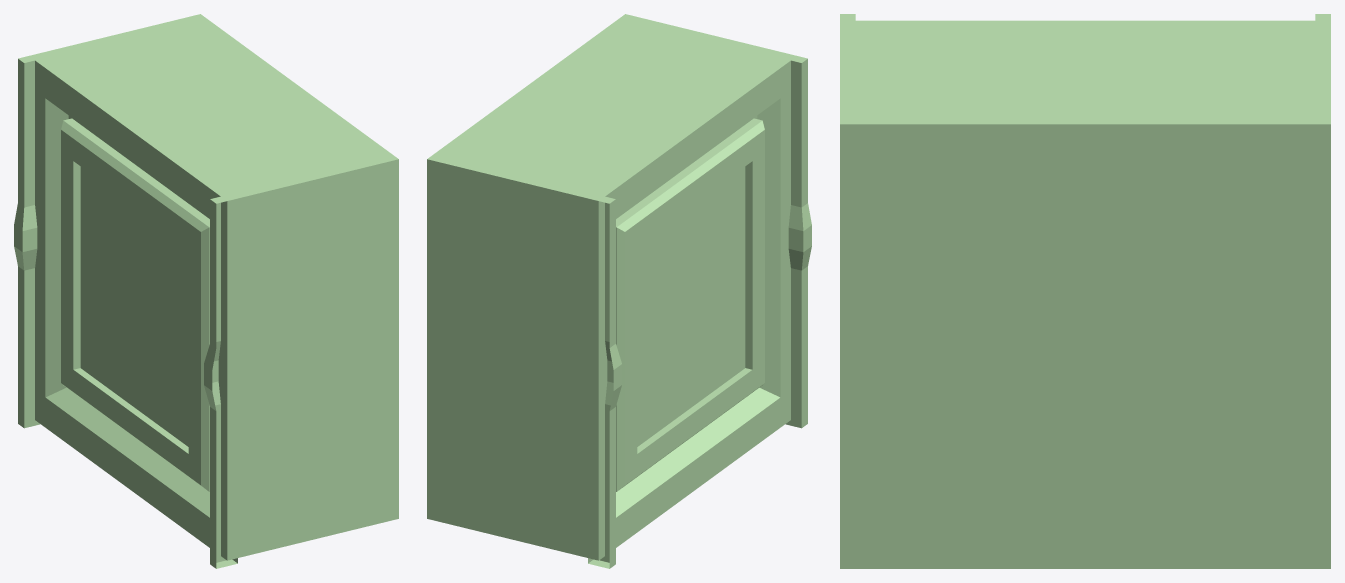
Rendered from block_wall_normal0.fbx.
3 views of the same model, side by side, from view 1: azimuth 30°, elevation 25°; view 2: azimuth 150°, elevation 25°; view 3: azimuth 270°, elevation 25° (orthographic). The views are drawn at different scales.
Visible parts, largest first — view 1: Cube; view 2: Cube; view 3: Cube.
Part boxes in pixels (<box>): Cube: <box>14,14,398,568</box>; Cube: <box>427,14,811,568</box>; Cube: <box>840,14,1330,568</box>.
Bounding box in the file's own units: 217 × 406 × 400.
